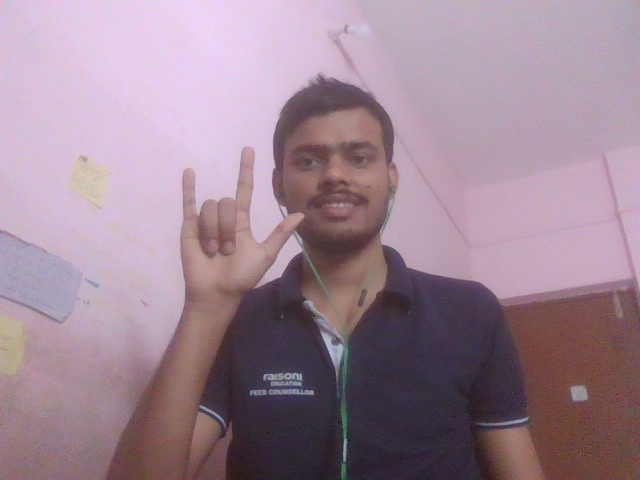ILoveYou: (132, 124, 329, 377)
